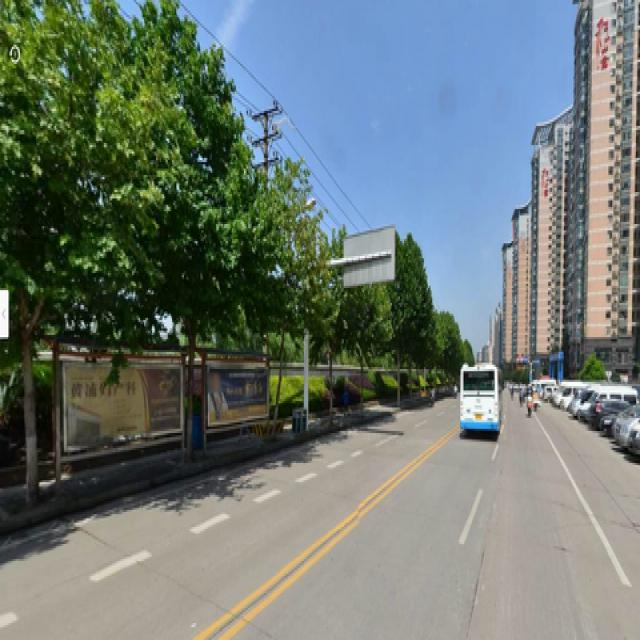meta: (3, 15, 158, 469)
